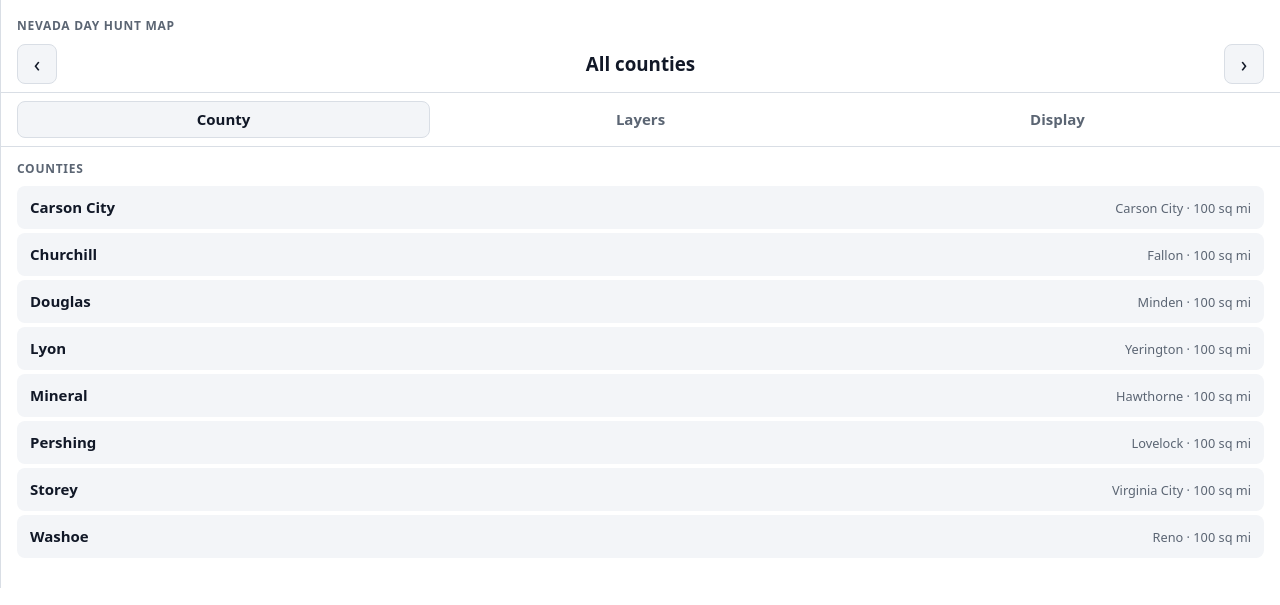
SidePanel › selects a county from the list and returns to all counties
Click the button "Lyon Yerington · 100 sq mi" at (48, 348), box [17,327,1264,370]
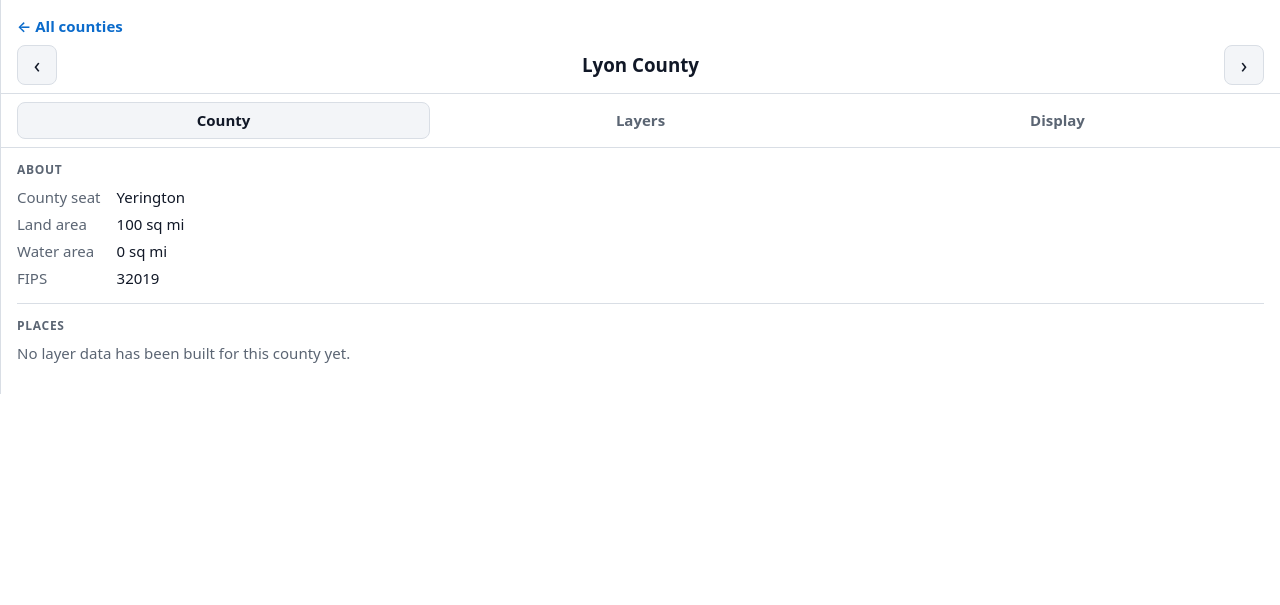
Expected: the text "Yerington" is shown, [116,187,185,207]
Expected: the heading "Lyon County" is shown, [582,52,699,77]
Click the button "← All counties" at (70, 26), box [17,12,123,41]
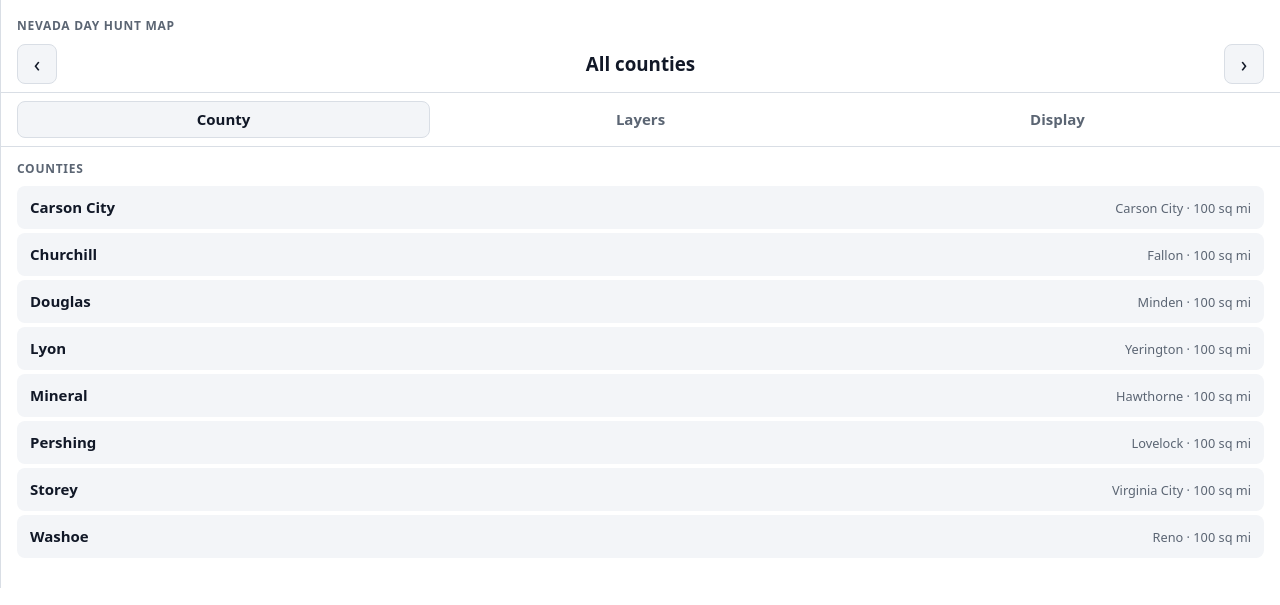
Expected: the heading "All counties" is shown, [586,51,695,76]
